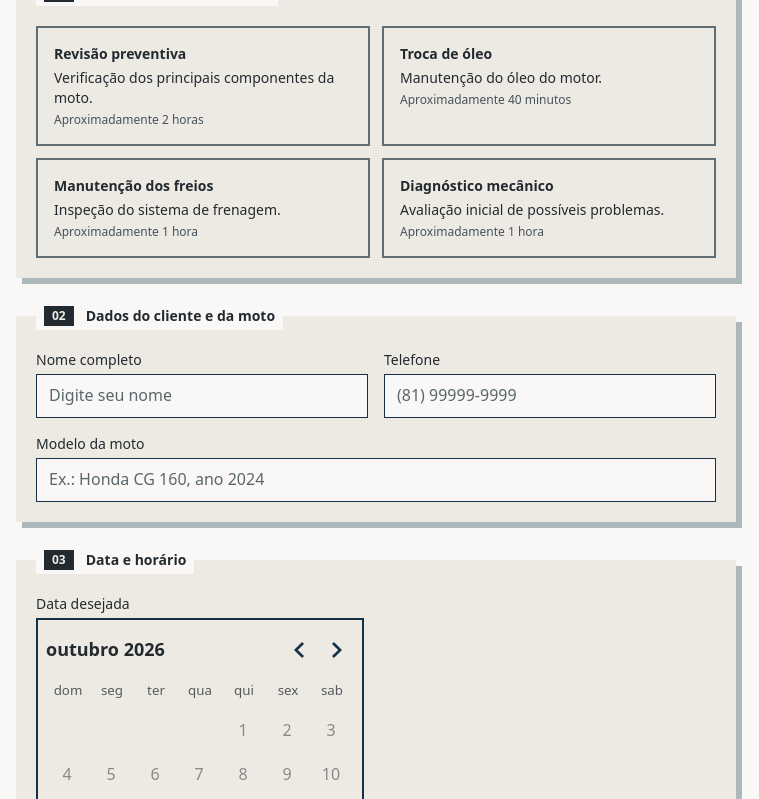
Pós-venda · agendamento › aplica a máscara no telefone
(page scrolled)
Type "81999999999" into the field labelled "Telefone".
click(550, 396); type("81999999999")  # box top-left (384, 374), bottom-right (716, 418)
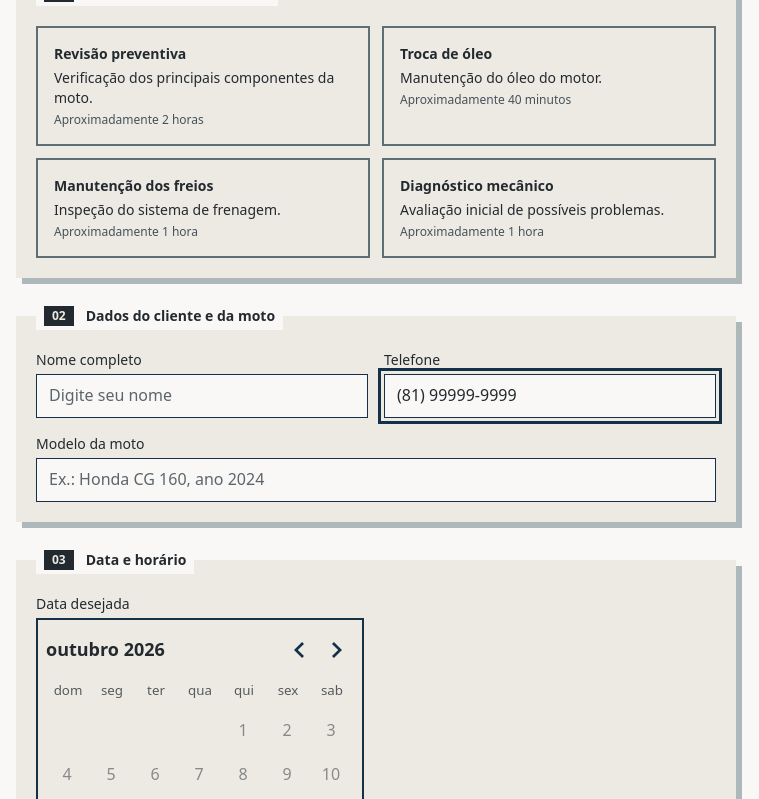
Check: the field labelled "Telefone" holds "(81) 99999-9999", box top-left (384, 374), bottom-right (716, 418)
